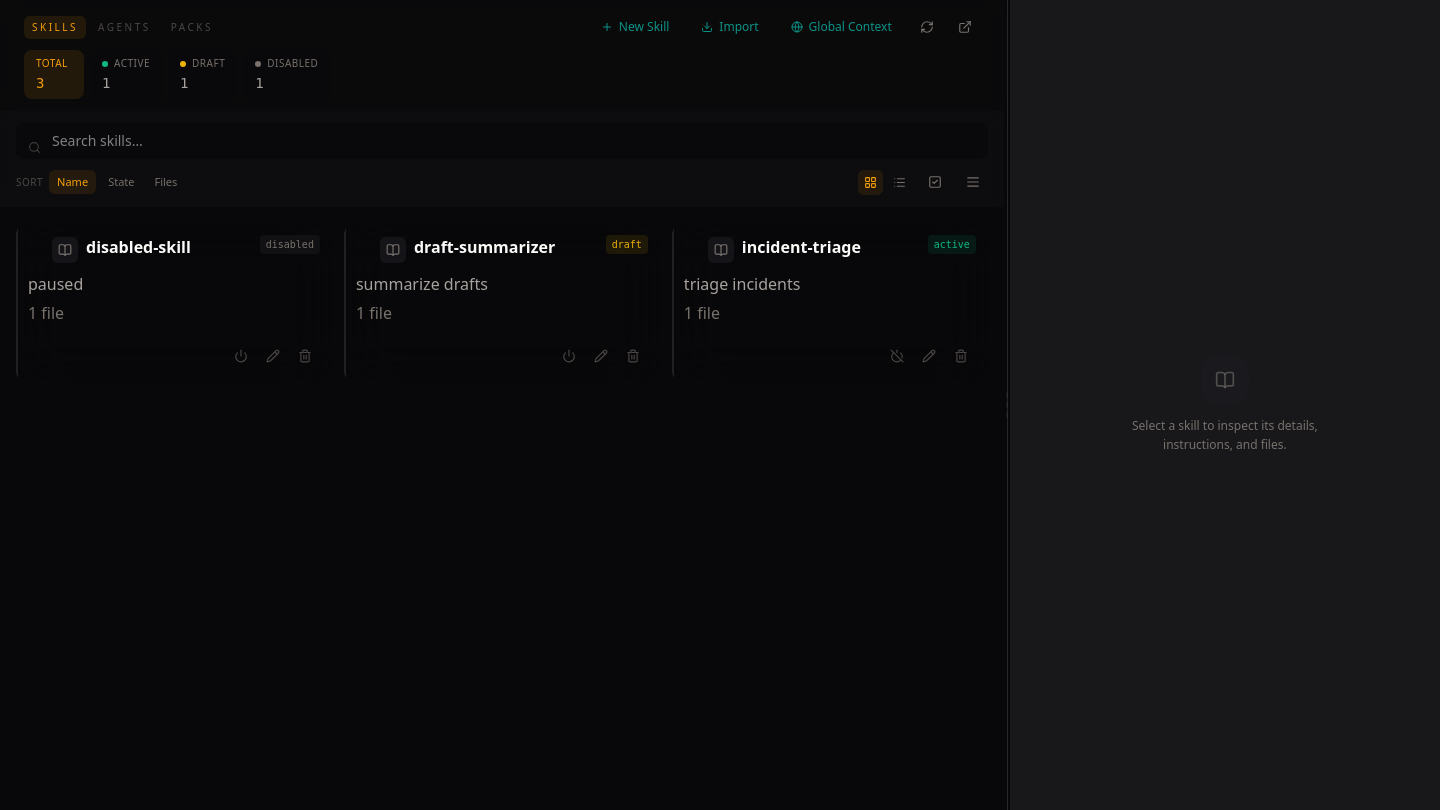
Test case: LibraryWorkspace › KPI summary header › applies the matching ?filter when a KPI card is clicked
What coordinates should you click on to do the following:
click the button with aria-label "Draft (1)"
I would click on:
 (203, 74)
Its box is top-left (168, 50), bottom-right (237, 99).
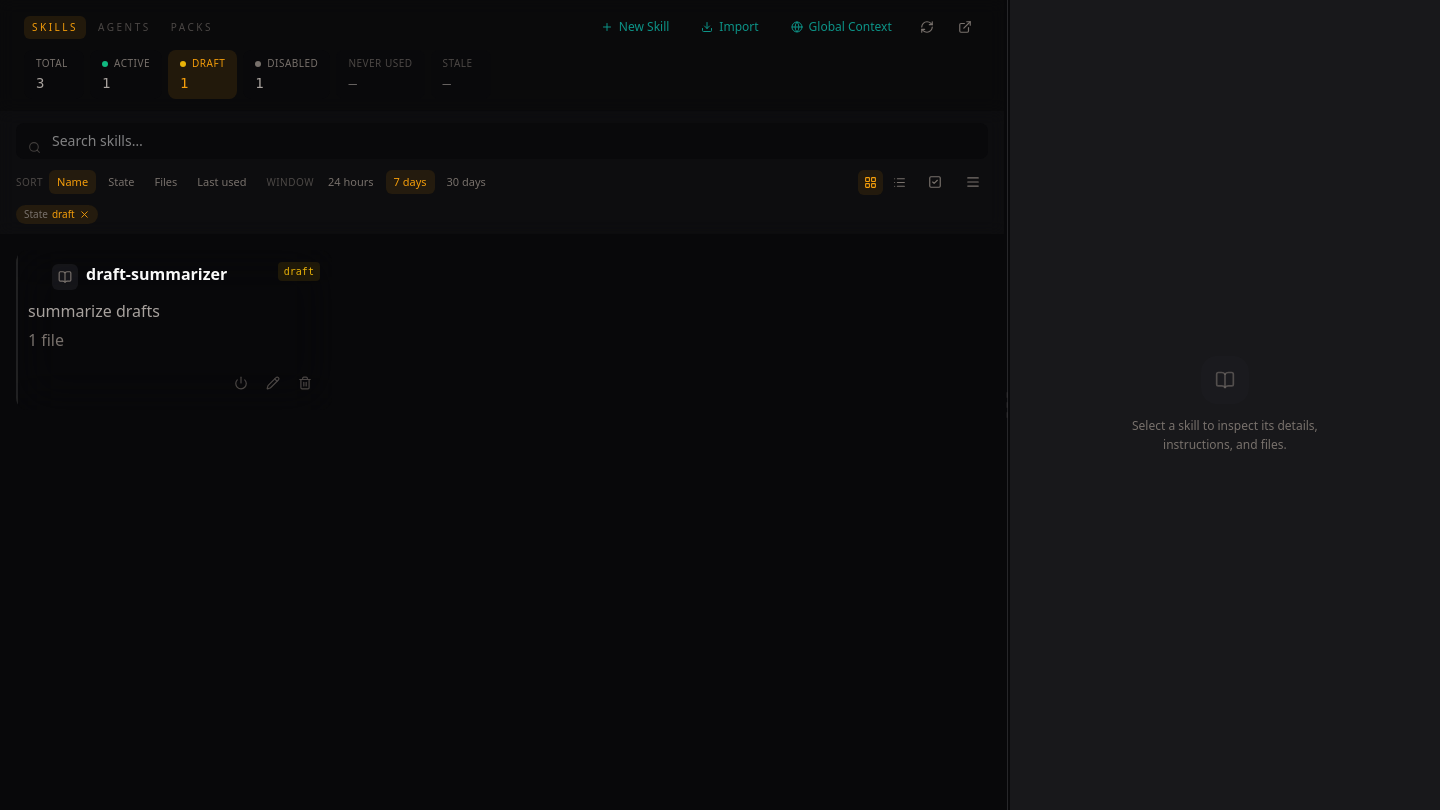
Expected: the text "draft-summarizer" is shown, top-left (86, 263), bottom-right (227, 285)
Expected: the button "incident-triage" is gone
